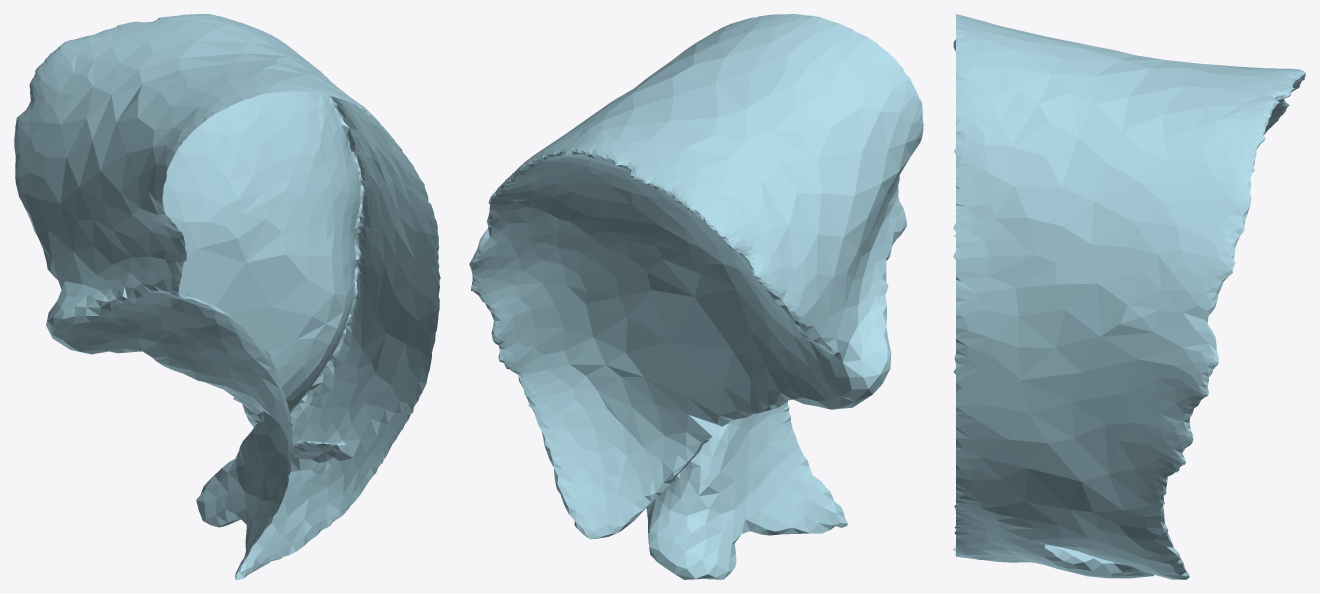
The model's file is leftlung.obj.
3 renders of one model, left to right at view 1: azimuth 30°, elevation 25°; view 2: azimuth 150°, elevation 25°; view 3: azimuth 270°, elevation 25°, orthographic. The views are drawn at different scales.
Visible parts, largest first — view 1: grp1; view 2: grp1; view 3: grp1.
Boxes of the visible parts, x1,y1,x2,y2 form: grp1: (14, 14, 440, 579); grp1: (469, 14, 923, 579); grp1: (952, 14, 1305, 579).
Bounding box in the file's own units: 117 × 153 × 92.67.
